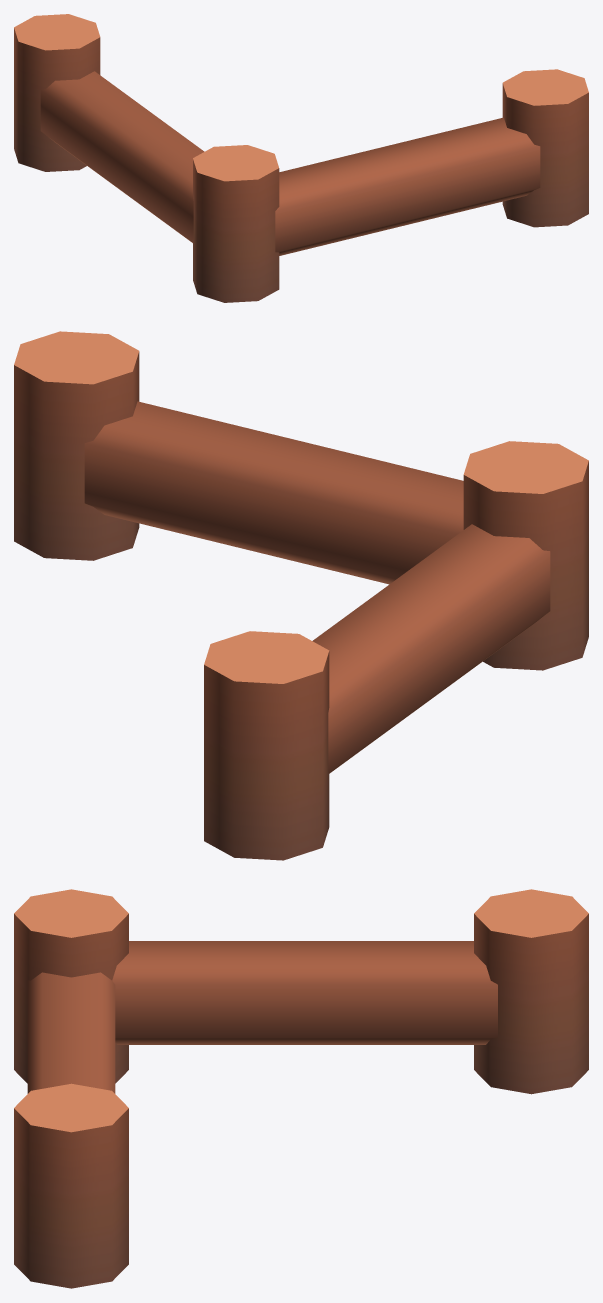
File: kenney-platformer-fence-low-corner.glb
3 views of the same model, one above another, from view 1: azimuth 30°, elevation 25°; view 2: azimuth 150°, elevation 25°; view 3: azimuth 270°, elevation 25° (orthographic). The views are drawn at different scales.
Visible parts, largest first — view 1: fence-low-corner; view 2: fence-low-corner; view 3: fence-low-corner.
Part boxes in pixels (x1,y1,x2,y2): fence-low-corner: (14, 14, 588, 302); fence-low-corner: (14, 331, 588, 860); fence-low-corner: (14, 889, 588, 1288).
Size of the model in its own units: 1 by 0.3 by 1.
1 material, 1 textured.
